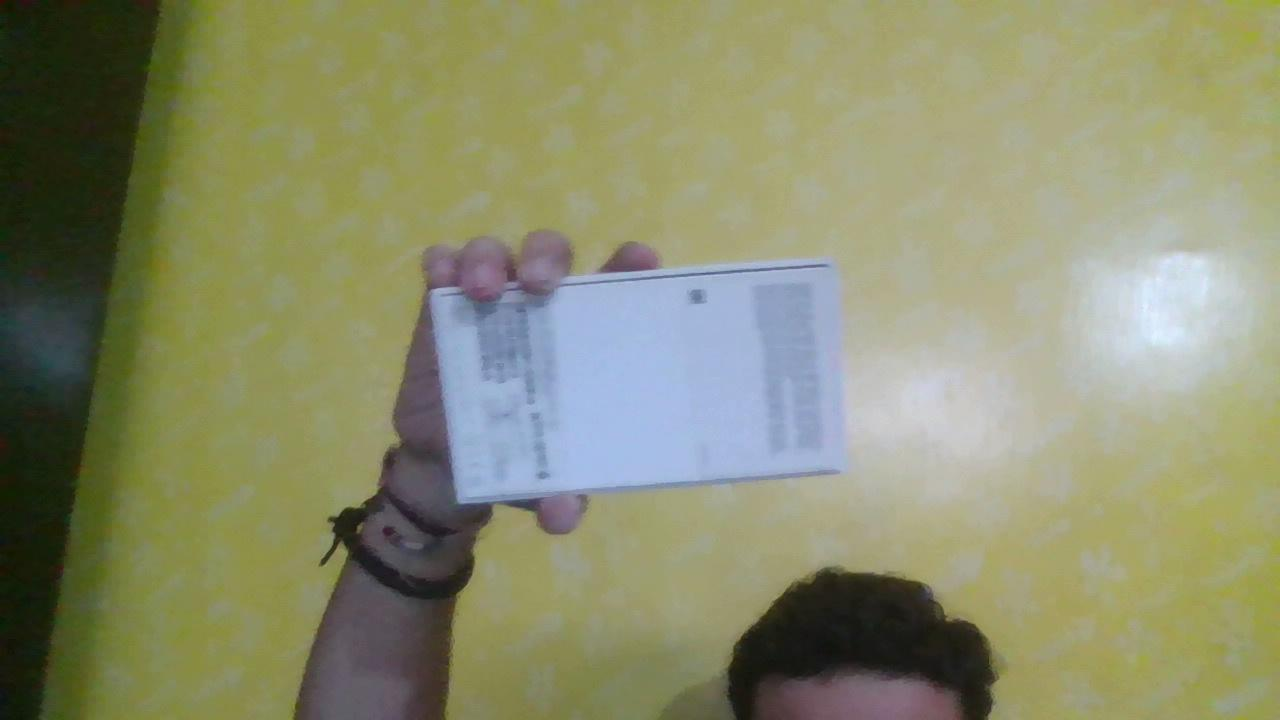Phone: (403, 256, 869, 501)
